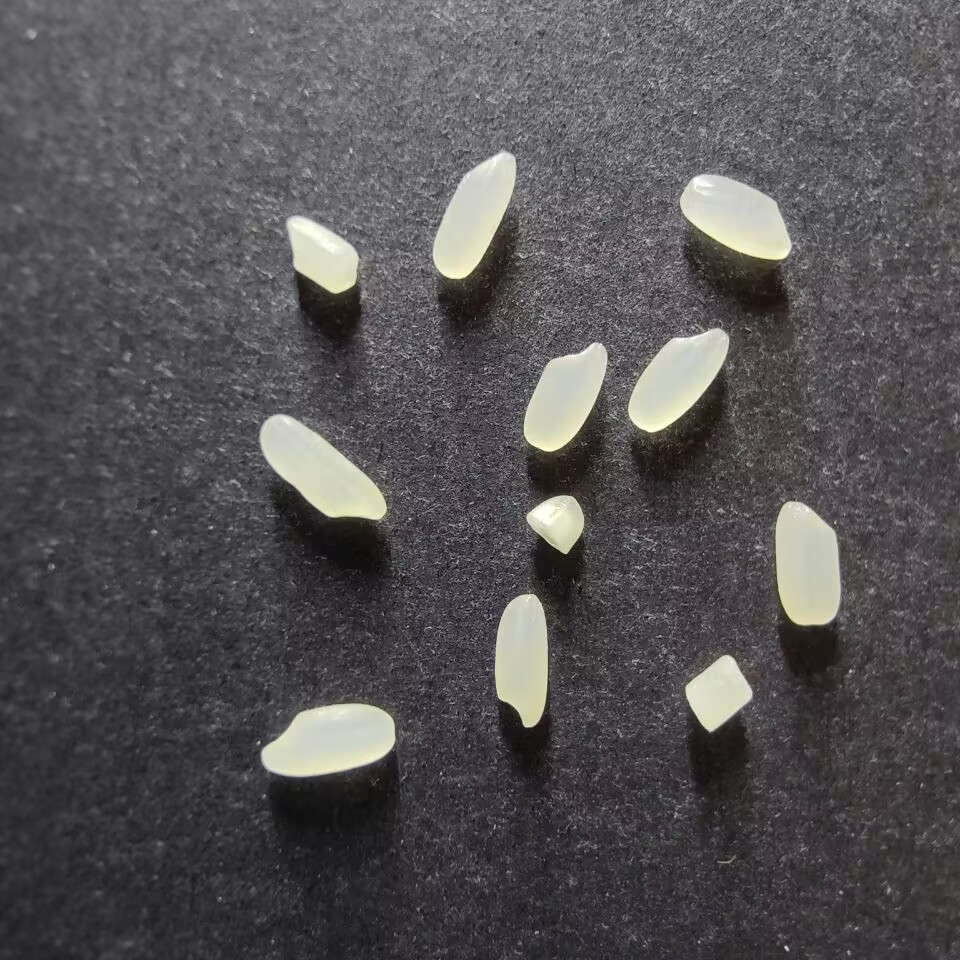broken: (285, 215, 360, 295), (683, 653, 753, 734), (525, 494, 585, 556)
rice: (258, 413, 388, 520), (431, 150, 517, 279), (627, 327, 730, 433), (679, 173, 792, 260), (260, 704, 395, 776), (522, 340, 608, 452), (773, 501, 842, 627), (492, 594, 548, 728)
